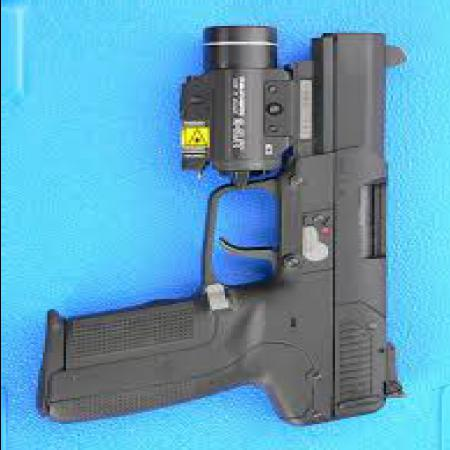Pistol: (46, 27, 418, 441)
